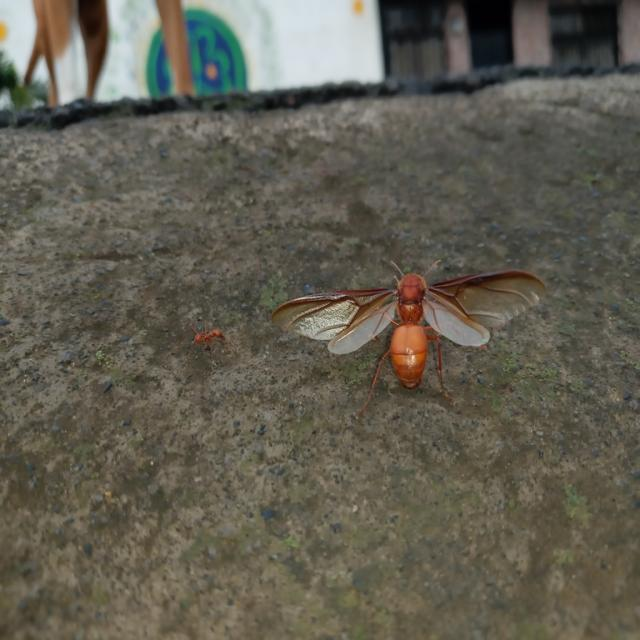Alive-Male-Alate: (270, 259, 547, 420)
